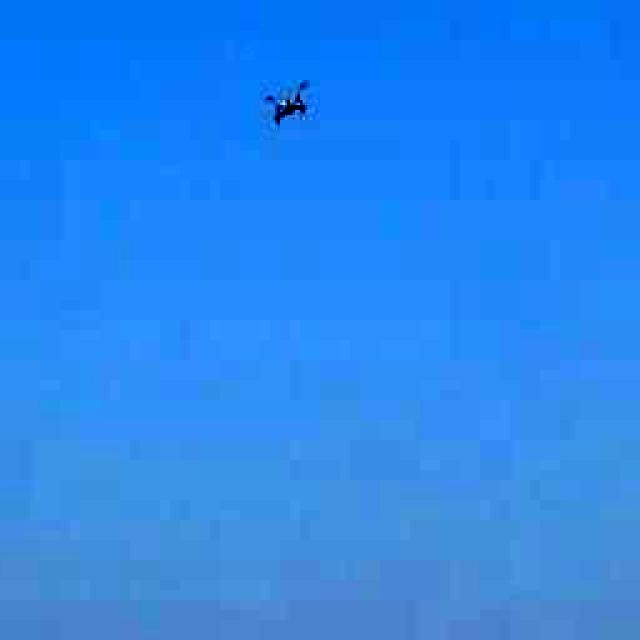bird: (229, 44, 359, 176)
